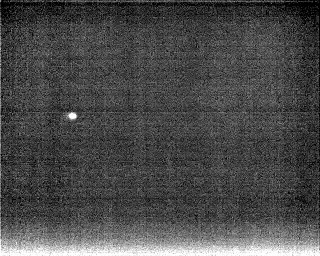AIRPLANE: (67, 110, 79, 122)
